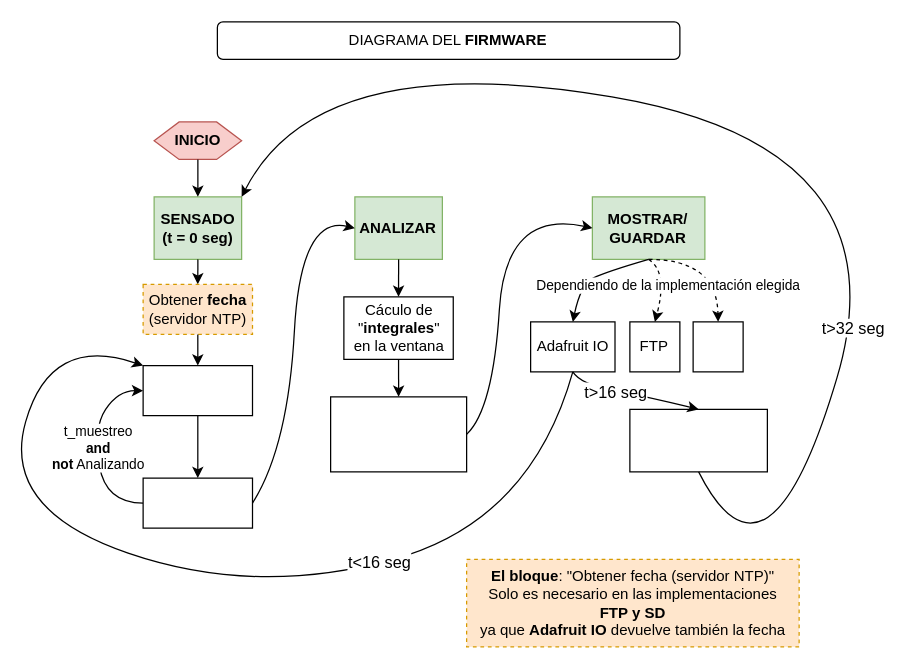
Image size: 906x669. Some labels were removed from this diagram. Each missing label, with the centre of its shape:
Actualizar buffers: point (197, 502)
Deep Sleep: point (698, 440)
Predicción mediante Bosques Aleatorios: point (398, 434)
SD: point (717, 346)
Tomar muestra: point (197, 390)
